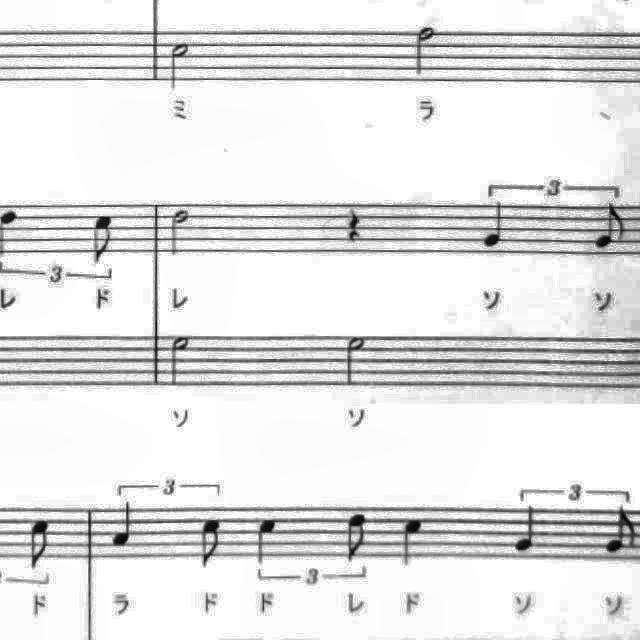Eighth-note: (598, 502, 640, 562), (588, 198, 632, 254), (193, 512, 229, 576), (86, 210, 122, 270), (22, 514, 58, 574), (340, 508, 374, 568)
Half-note: (407, 18, 443, 82), (338, 329, 374, 391), (163, 328, 197, 392), (163, 36, 199, 96), (164, 203, 196, 261)
Quarter-note: (506, 498, 546, 558), (396, 510, 432, 574), (478, 195, 514, 252), (251, 511, 285, 569), (106, 499, 142, 553)
Quarter-rest: (339, 200, 369, 248)
